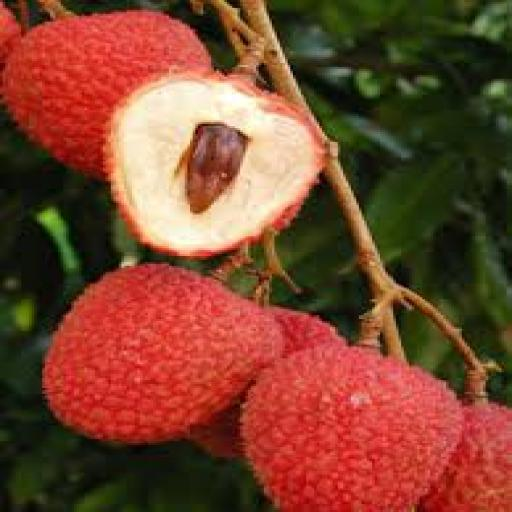lychee: (43, 264, 282, 443), (109, 73, 324, 257), (243, 343, 461, 511), (3, 10, 211, 177), (420, 404, 511, 511), (267, 308, 345, 356), (0, 2, 21, 68)
